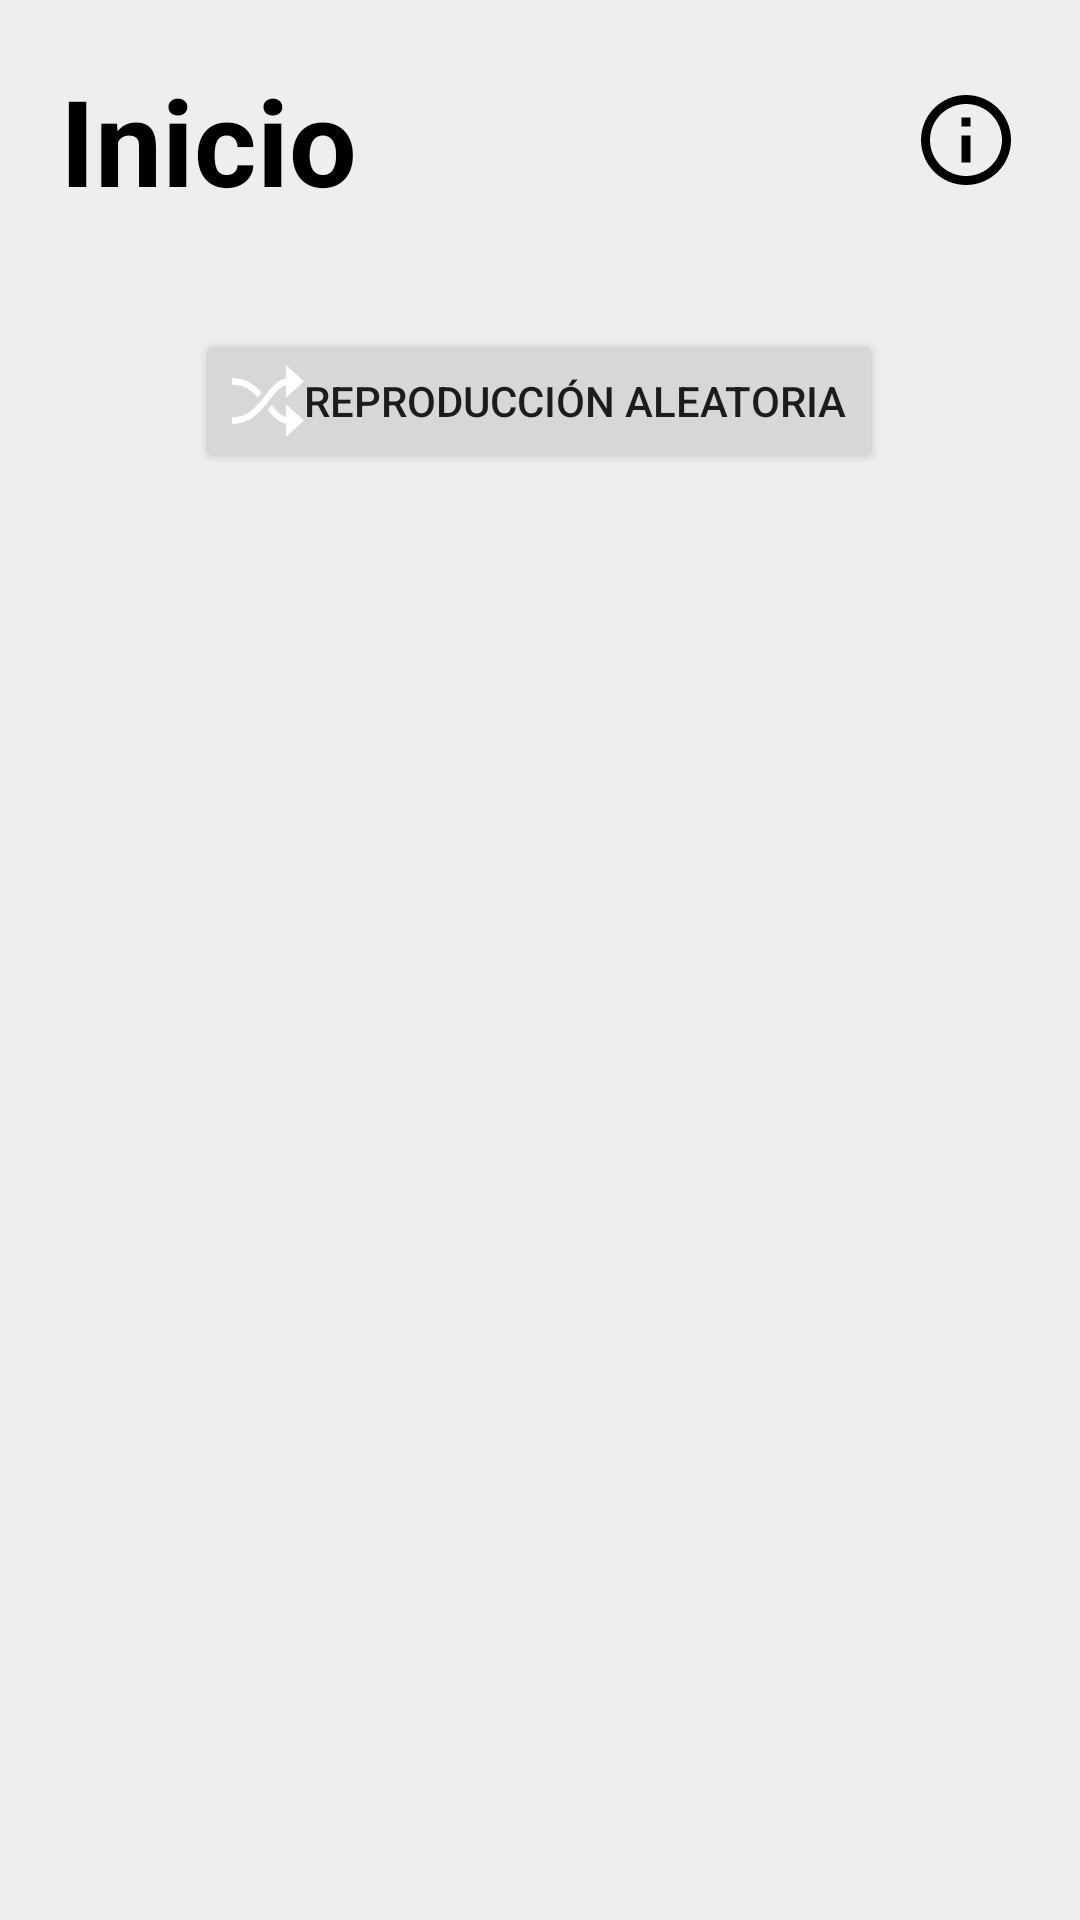

Where to tap for icons on this 1080px×1920px app screen, as point (x, y):
info: point (966, 140)
